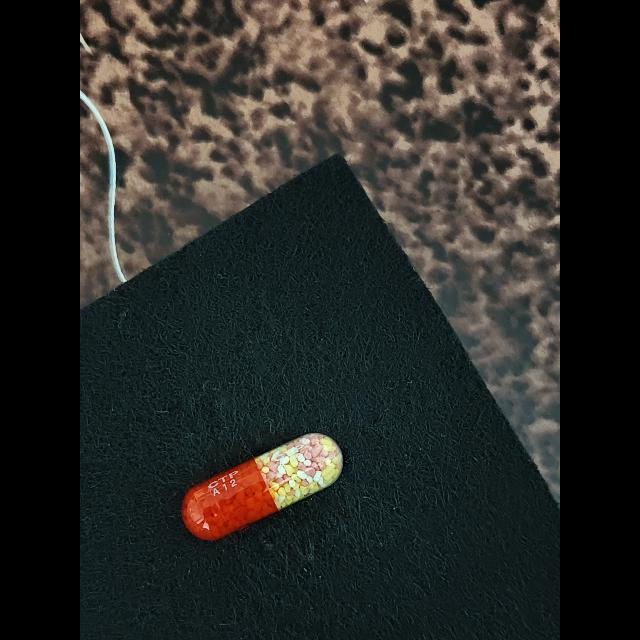Intact Capsule: (182, 433, 343, 541)
